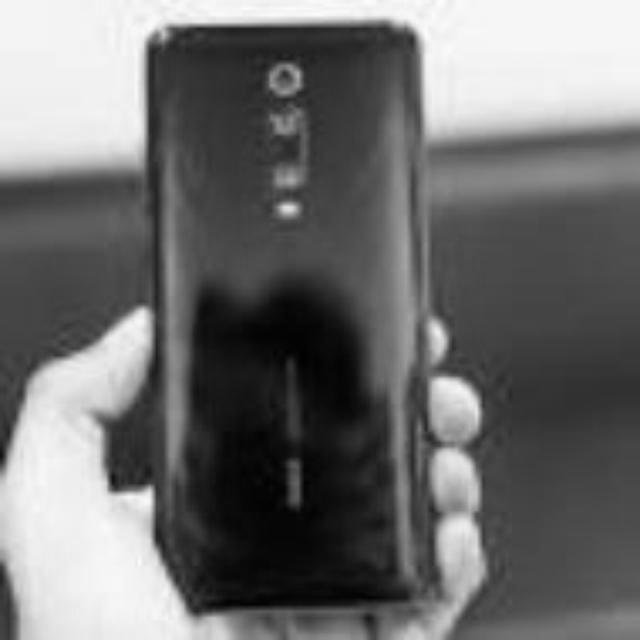fake: (136, 14, 454, 612)
